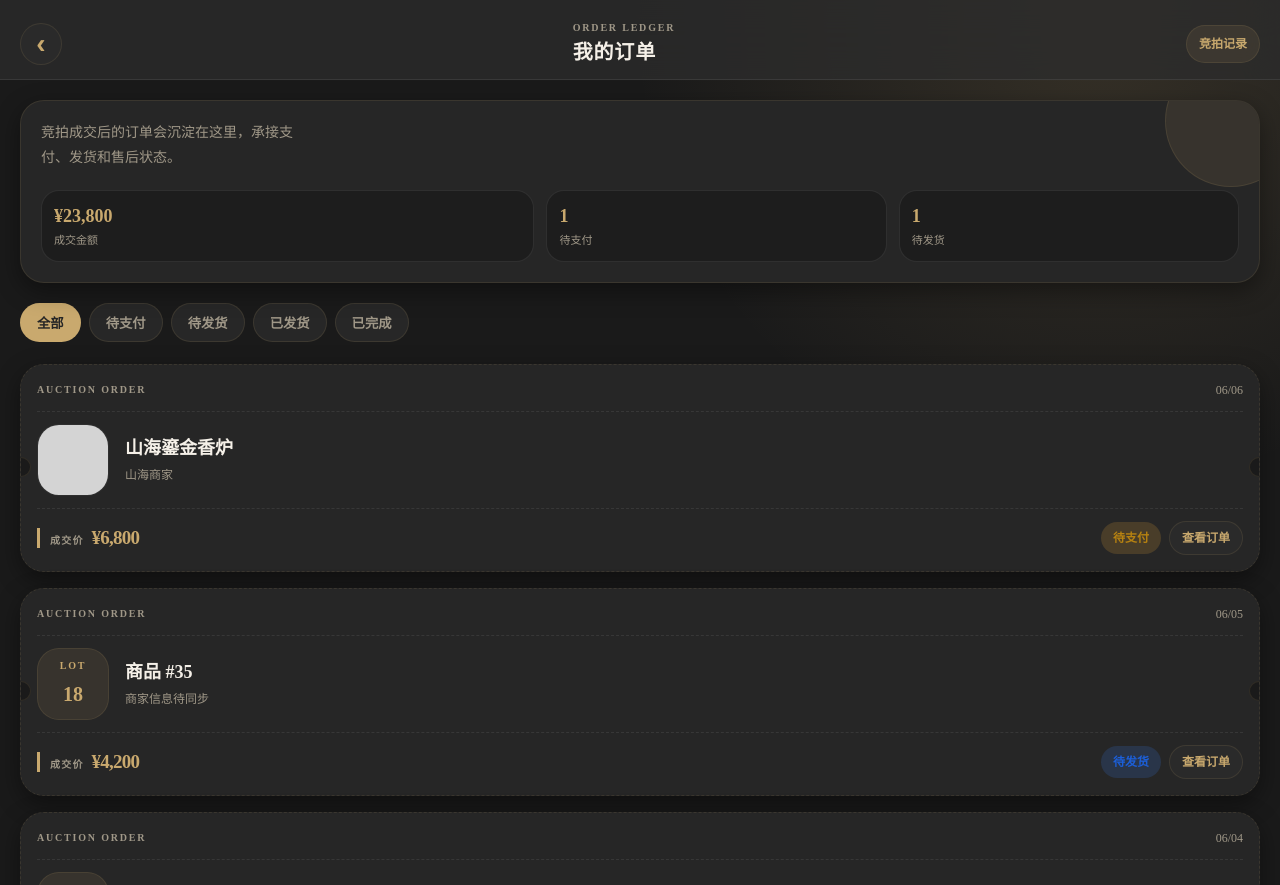
it: OrderList page › filters backend orders by status without navigating away
Expected: the heading "山海鎏金香炉" is shown, [125,438,233,458]
What coordinates should you click on to do the following:
click the button "待发货"
I would click on:
 (208, 322)
Its box is [171,302,245,342].
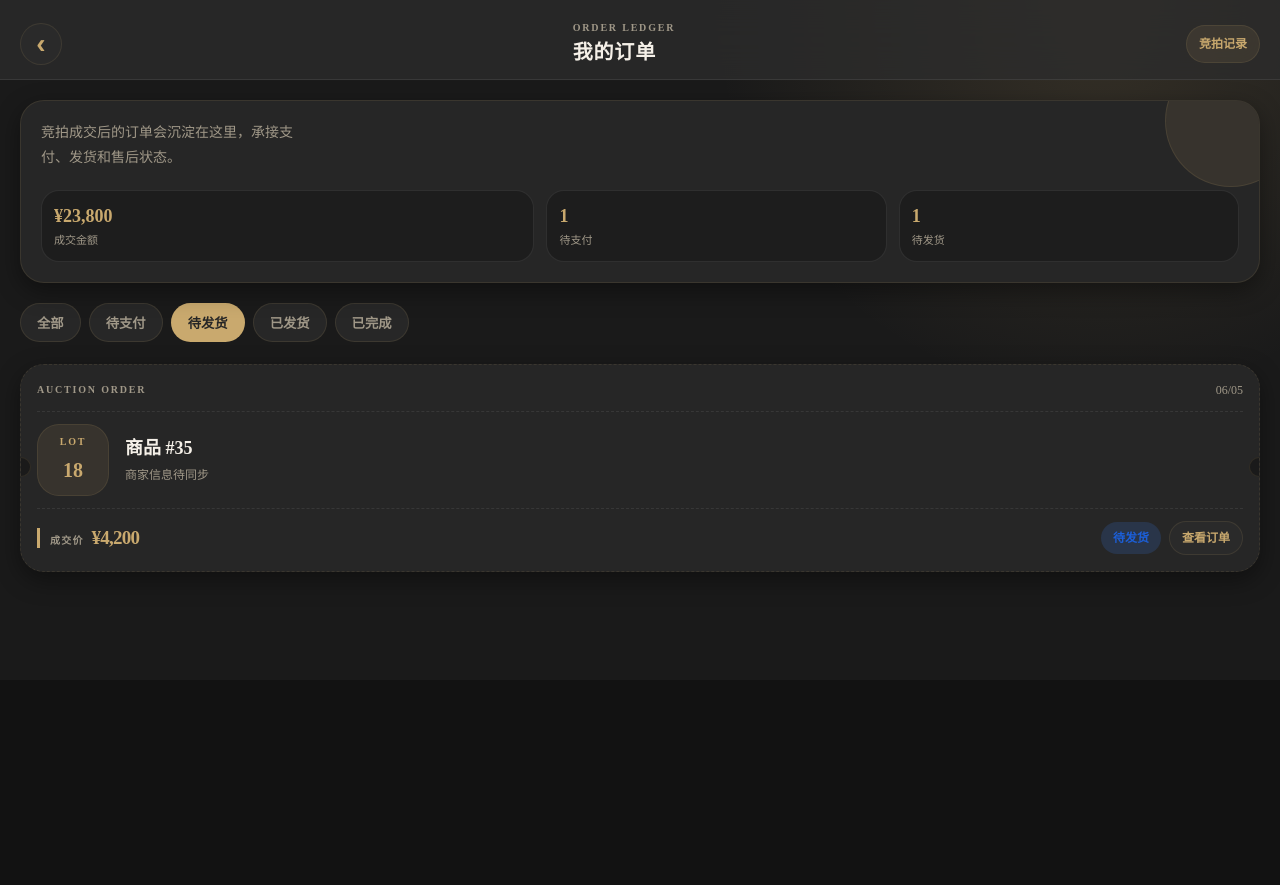
Expected: the heading "商品 #35" is shown, [125,438,192,458]
Now the heading "山海鎏金香炉" is gone
